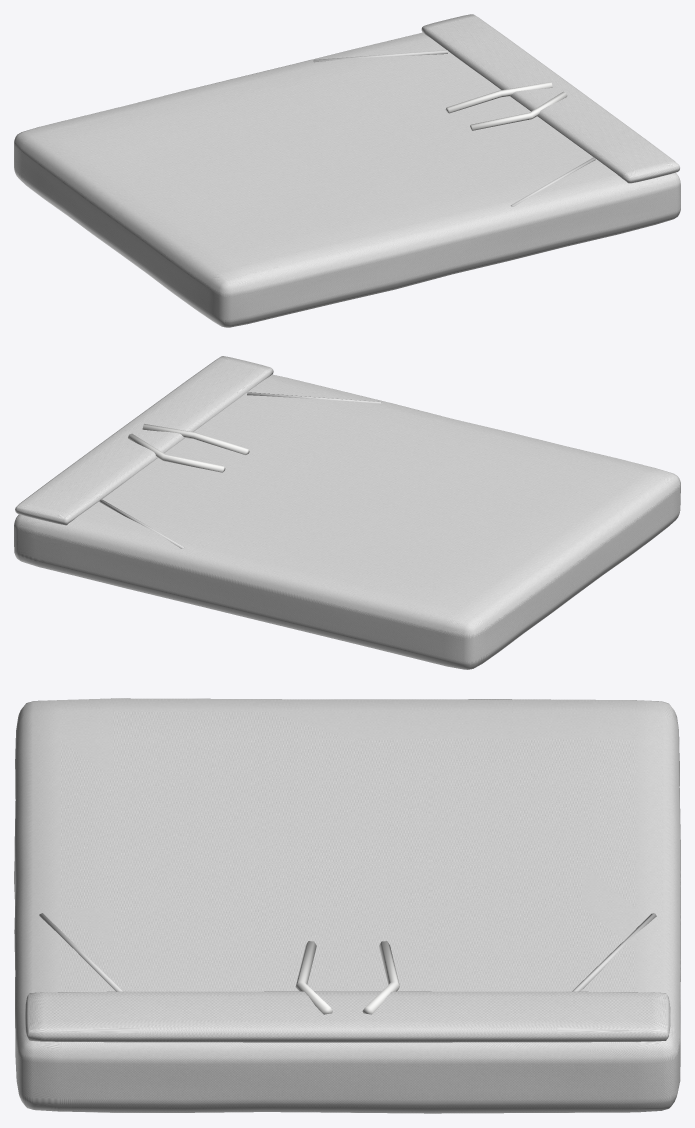
Rendered from shorts.glb.
3 renders of one model, top to bottom at view 1: azimuth 30°, elevation 25°; view 2: azimuth 150°, elevation 25°; view 3: azimuth 270°, elevation 25°, orthographic. The views are drawn at different scales.
Parts seen in each view (by area): view 1: shorts_body, shorts_band, shorts_string1, shorts_string-1; view 2: shorts_body, shorts_band, shorts_string-1, shorts_string1; view 3: shorts_body, shorts_band, shorts_string-1, shorts_string1.
Boxes of the visible parts, box(x1,y1,x2,y2) form: shorts_body: box(14, 32, 680, 327); shorts_band: box(421, 14, 679, 183); shorts_string1: box(445, 82, 552, 113); shorts_string-1: box(470, 91, 567, 130); shorts_body: box(14, 374, 680, 669); shorts_band: box(15, 356, 273, 525); shorts_string-1: box(142, 424, 249, 454); shorts_string1: box(128, 433, 225, 472); shorts_body: box(14, 698, 680, 1113); shorts_band: box(25, 991, 670, 1042); shorts_string-1: box(295, 941, 332, 1014); shorts_string1: box(362, 941, 399, 1014).
Size of the model in its own units: 25.04 by 3.32 by 20.04.
2 materials, 1 textured.
